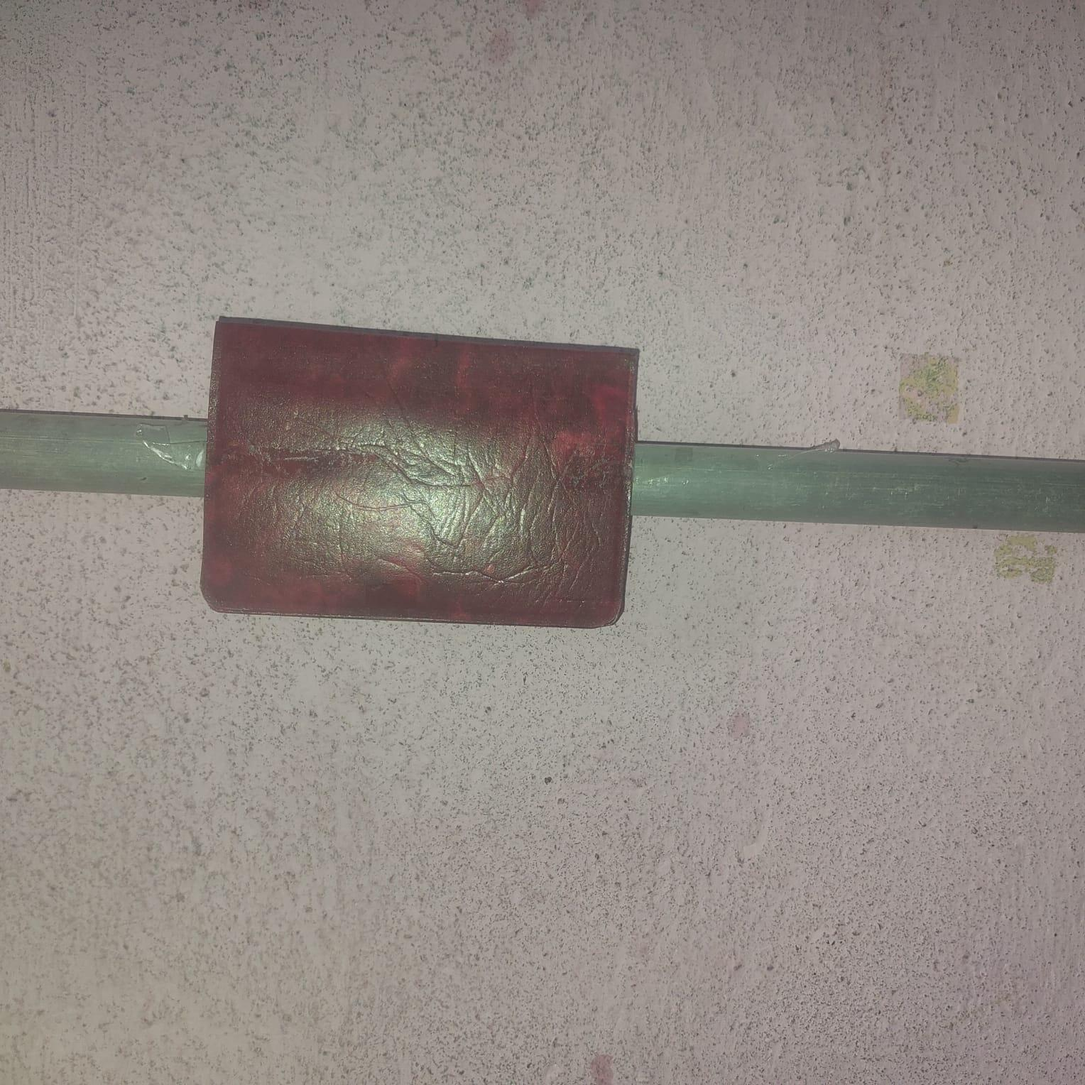wallet: (199, 316, 639, 628)
